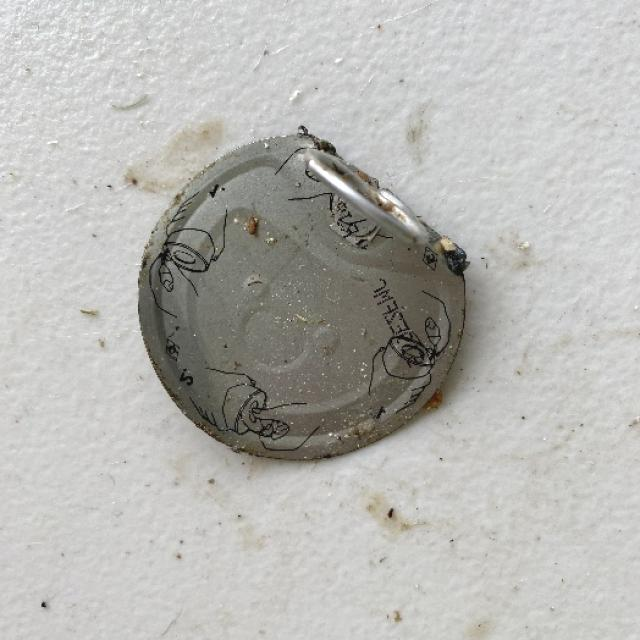inorganic: (130, 122, 472, 466)
